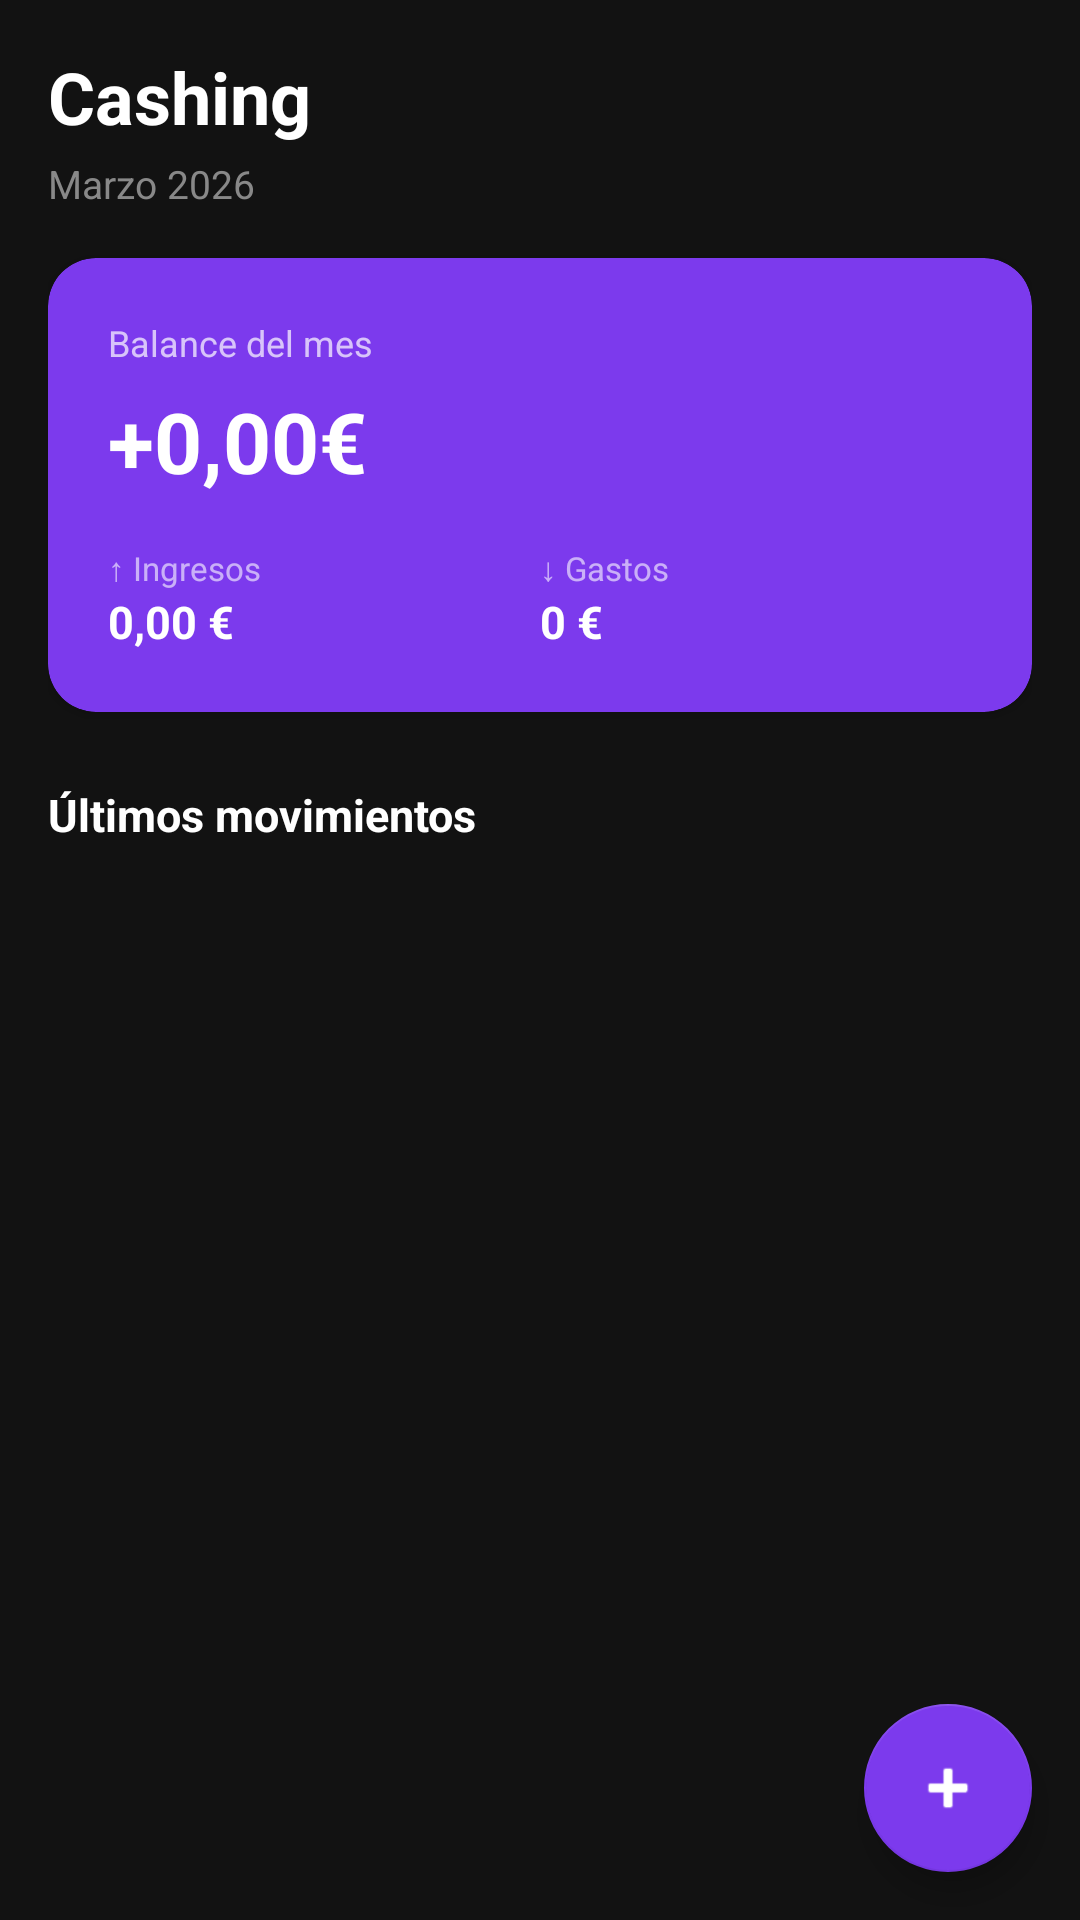

Icon bounding boxes for this 1080 x 1920 phone screenshot, format (x1, y1, x2, y2):
Añadir movimiento: (864, 1704, 1032, 1872)
